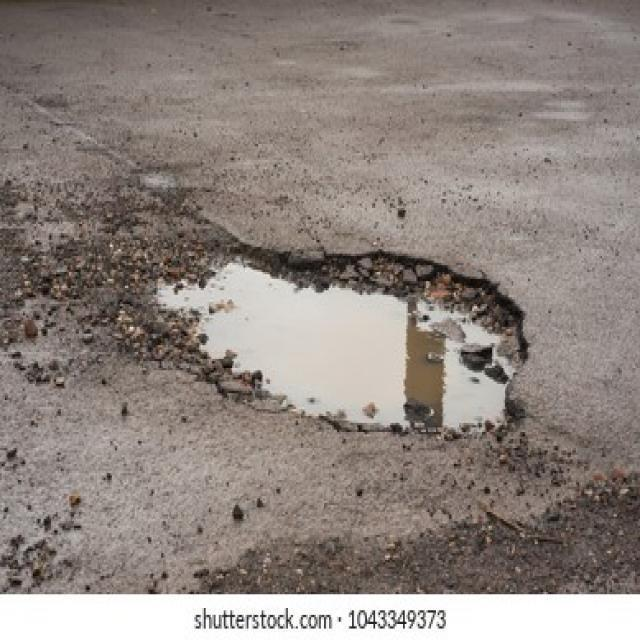Pothole: (117, 227, 529, 429)
